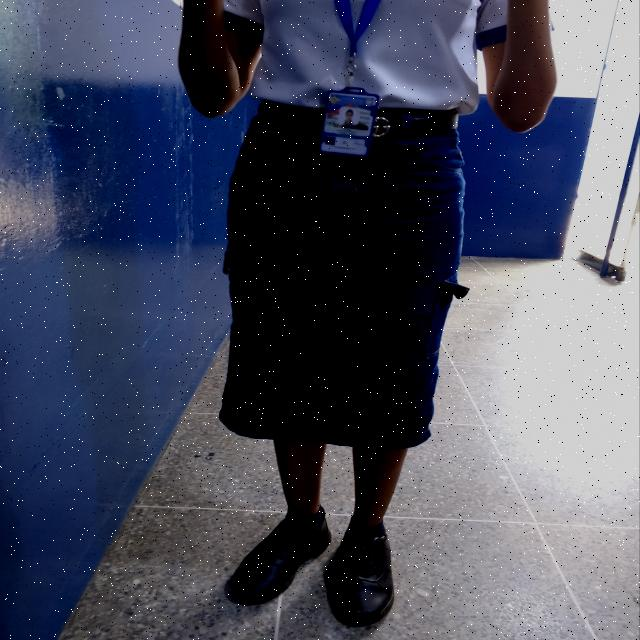carnet: (321, 92, 376, 155)
pantalon_oscuro: (218, 114, 466, 450)
